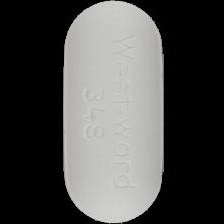0904-5591: (0, 0, 224, 224)
